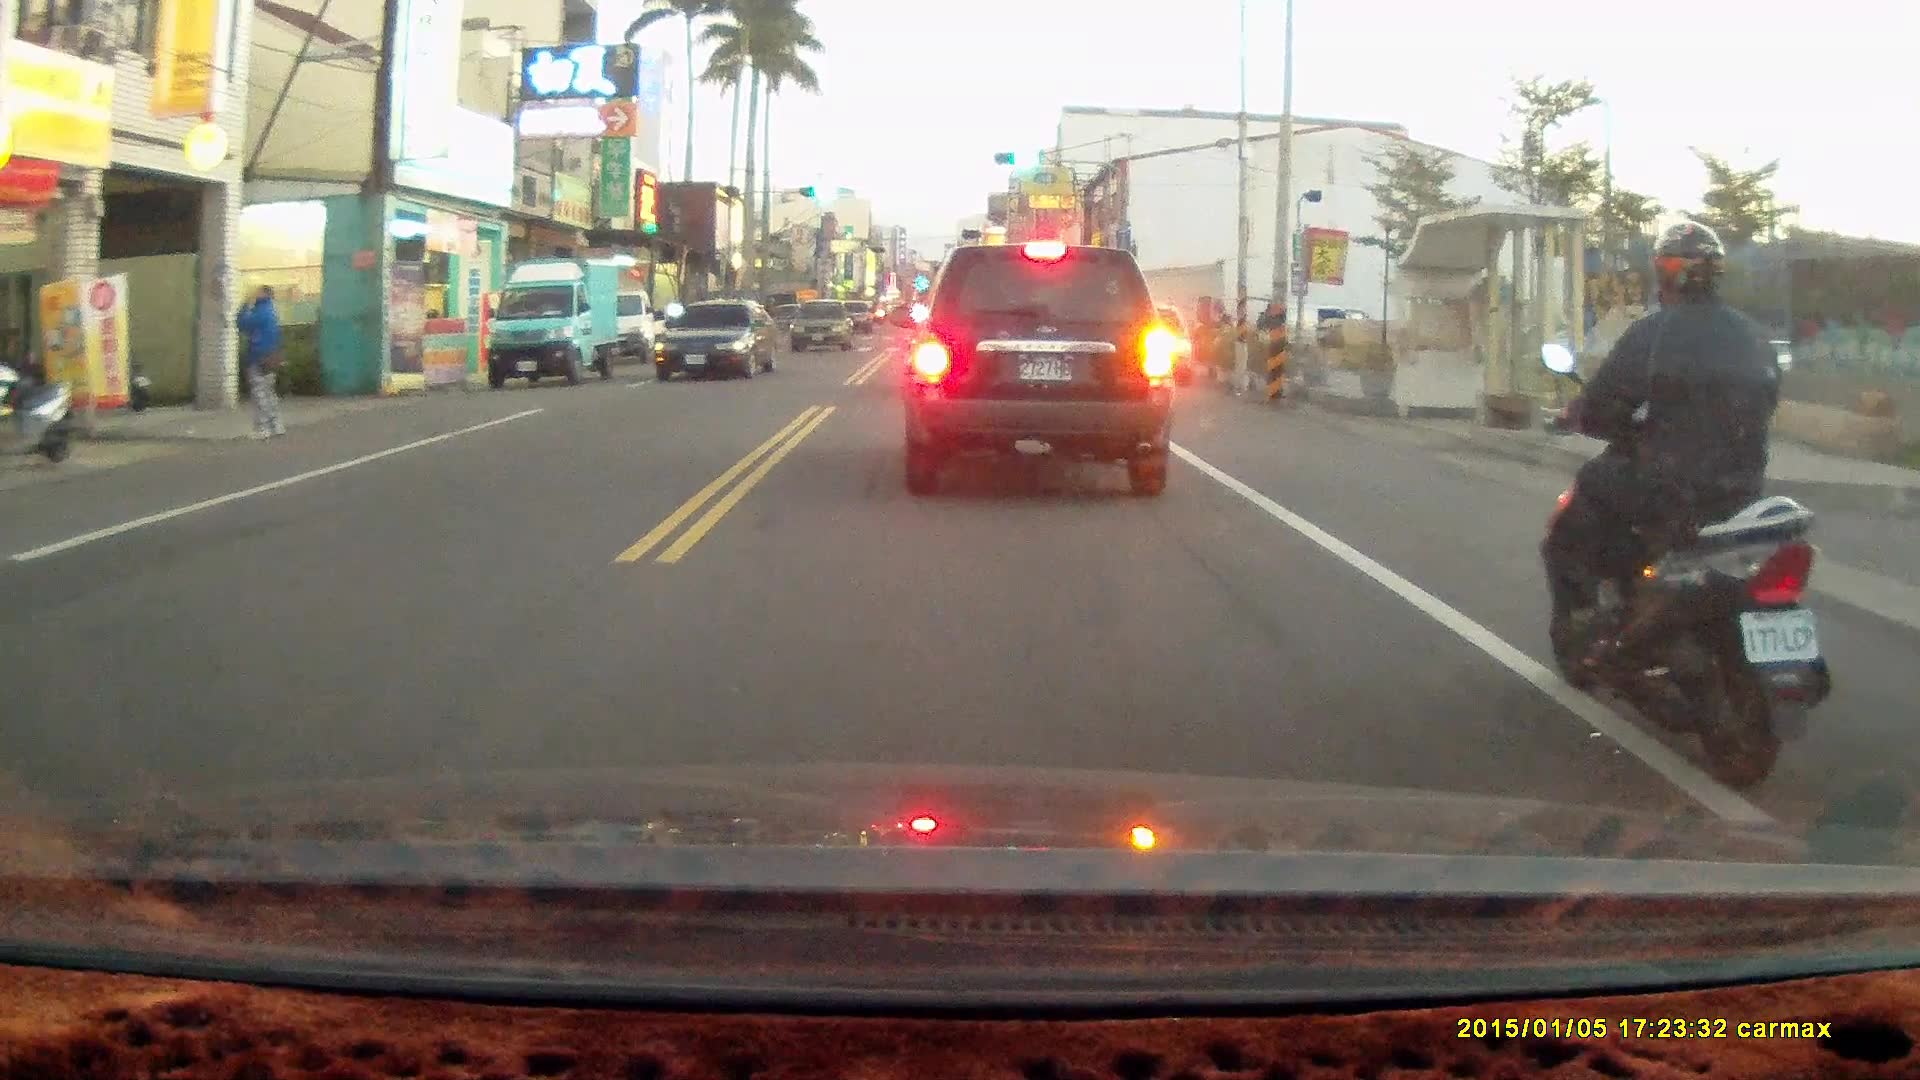pedestrian: (229, 281, 290, 443)
rider: (1538, 216, 1831, 793)
vehicle: (898, 238, 1179, 499), (484, 256, 622, 393), (652, 299, 783, 382), (787, 300, 856, 357)
